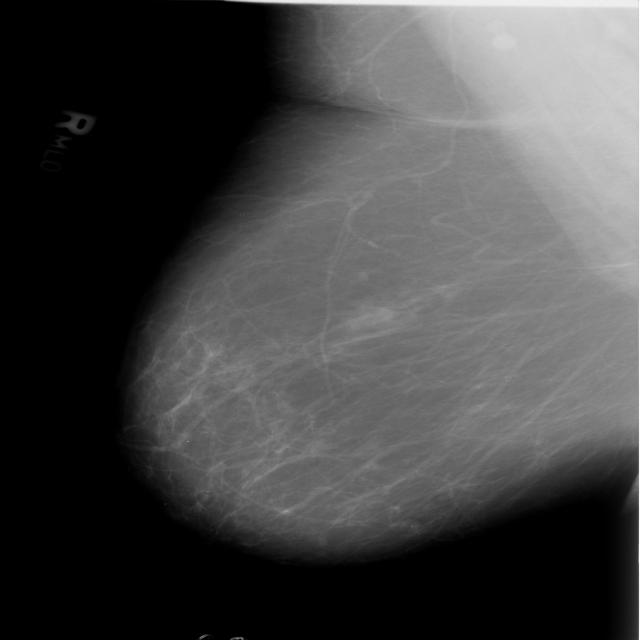normal: (86, 0, 640, 599)
